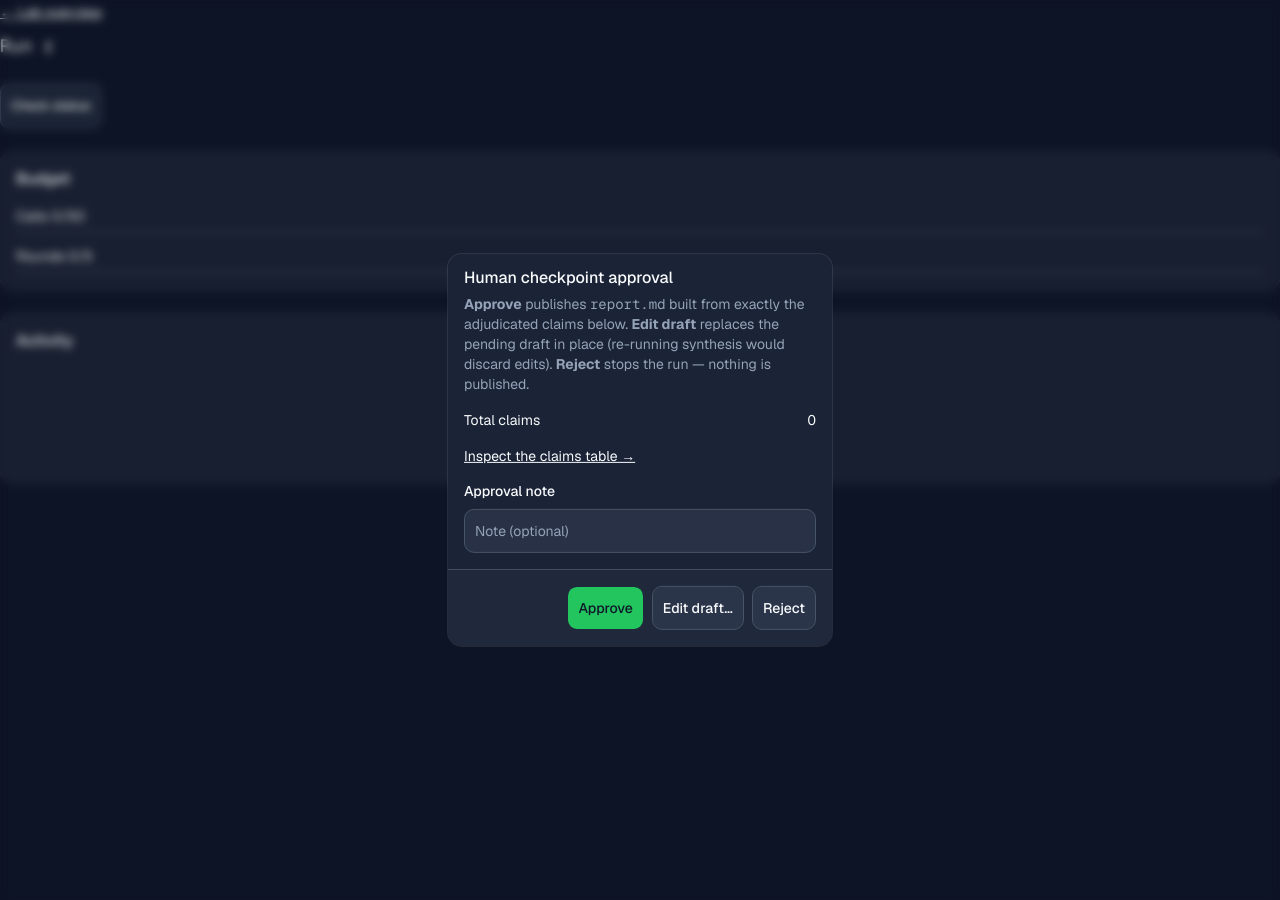
it: RunView › rejects with a note and does not resubscribe
Expected: the dialog "Human checkpoint approval" is shown, [448,254,832,646]
In the field labelled "Approval note": x=640, y=531 [464,509,816,553], type "wrong scope"
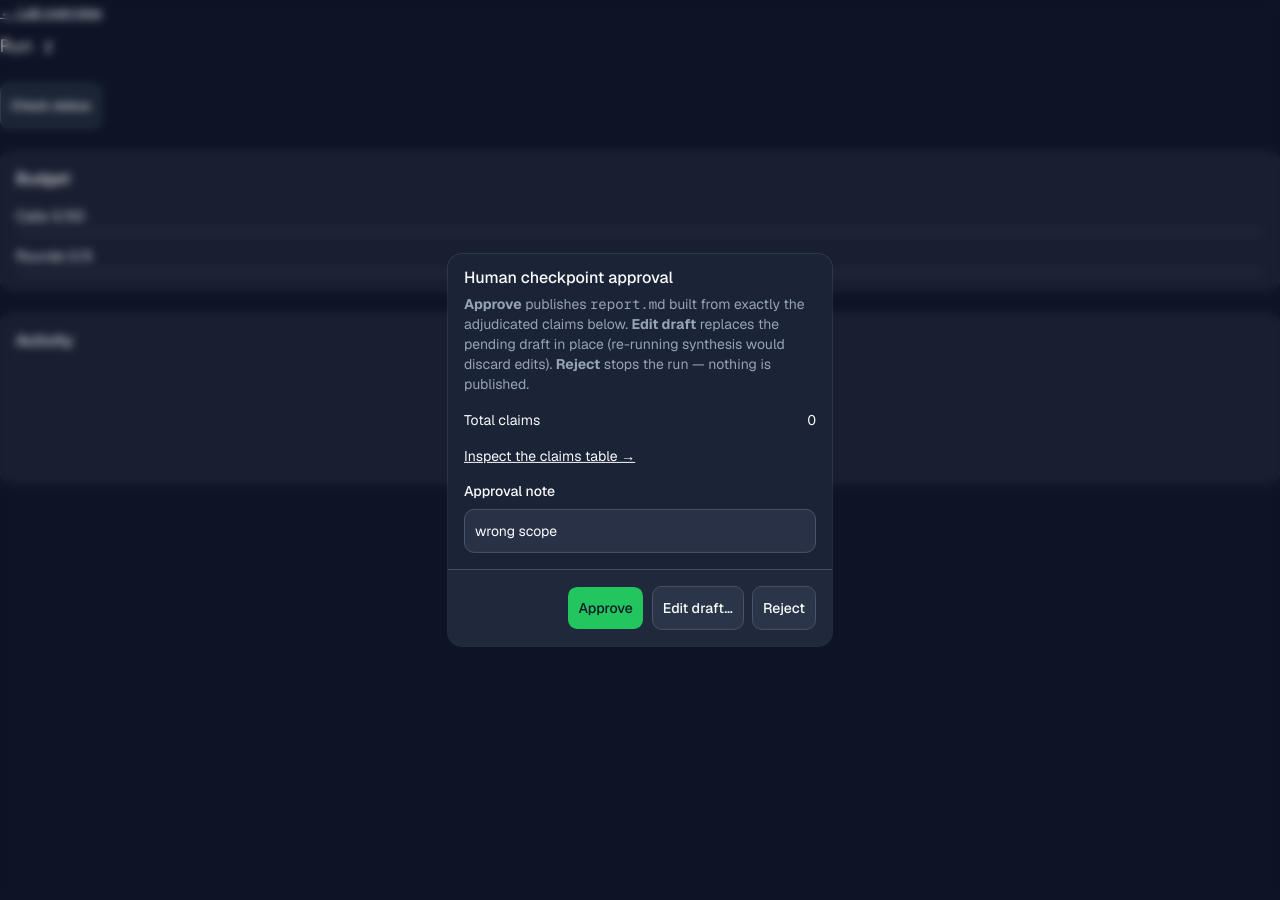
Click the button "Reject": x=784, y=608 [752,586,816,630]
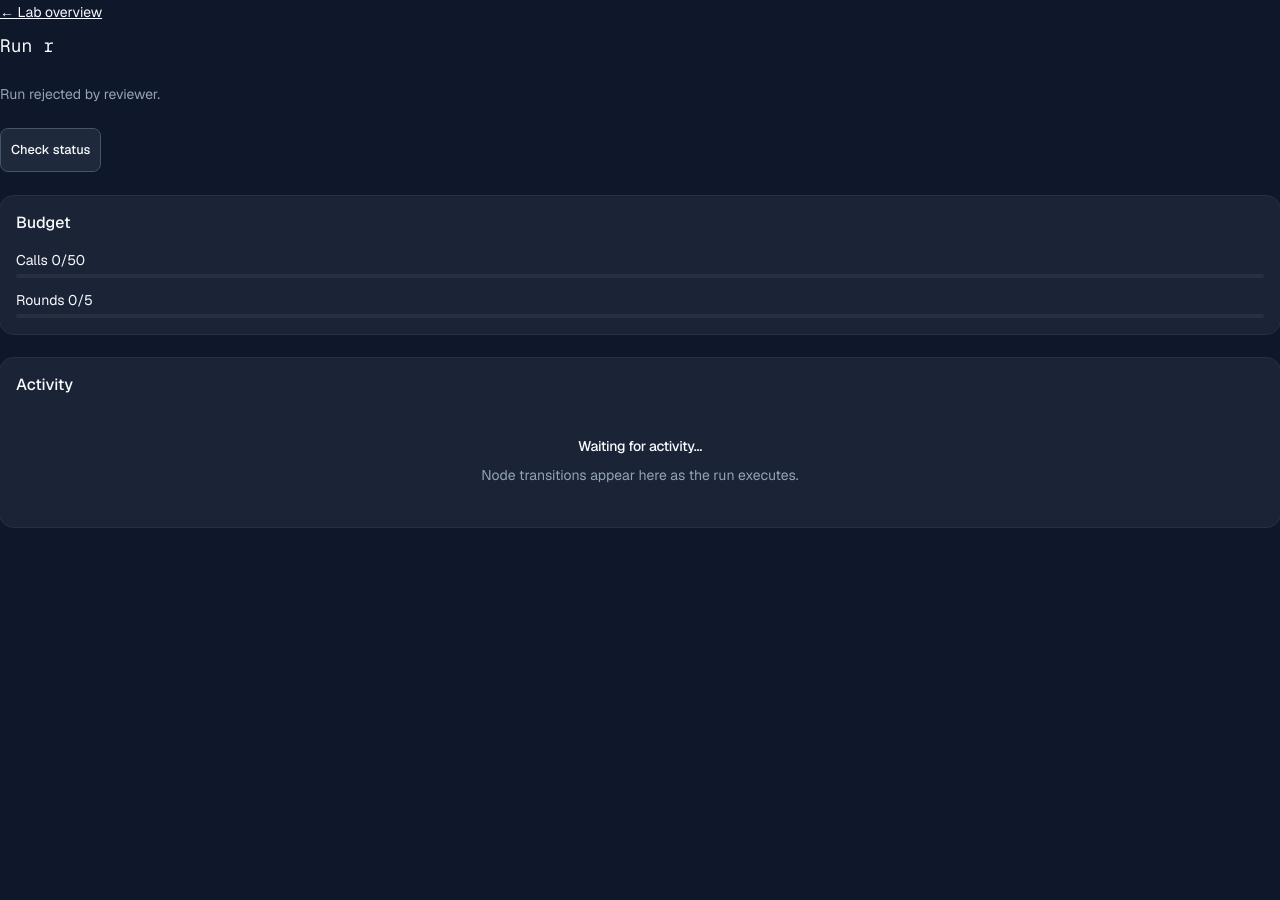
Expected: the text "Run rejected by reviewer." is shown, [0,85,160,103]
